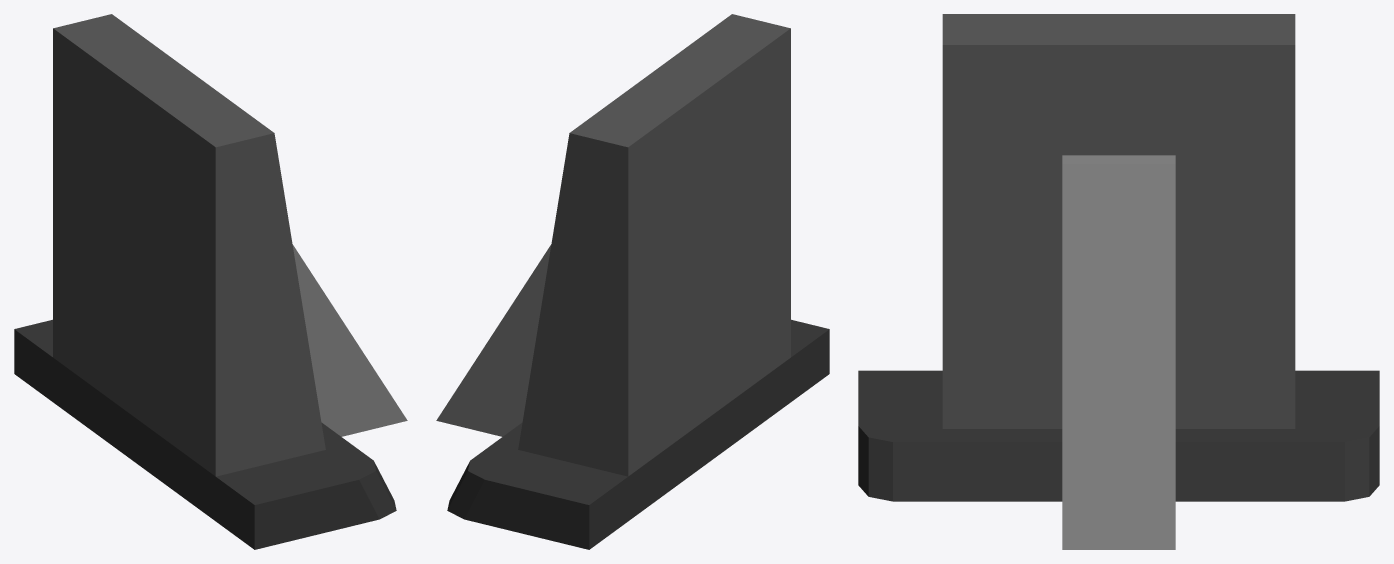
File: Book_St.fbx
The picture shows the model from 3 angles, left to right: view 1: azimuth 30°, elevation 25°; view 2: azimuth 150°, elevation 25°; view 3: azimuth 270°, elevation 25°; orthographic projection. The views are drawn at different scales.
Parts seen in each view (by area): view 1: Book_St; view 2: Book_St; view 3: Book_St.
Part boxes in pixels (box(x1,y1,x2,y2)): Book_St: box(14, 14, 407, 549); Book_St: box(436, 14, 829, 549); Book_St: box(858, 14, 1379, 549).
Size of the model in its own units: 12.88 by 18.63 by 21.71.
